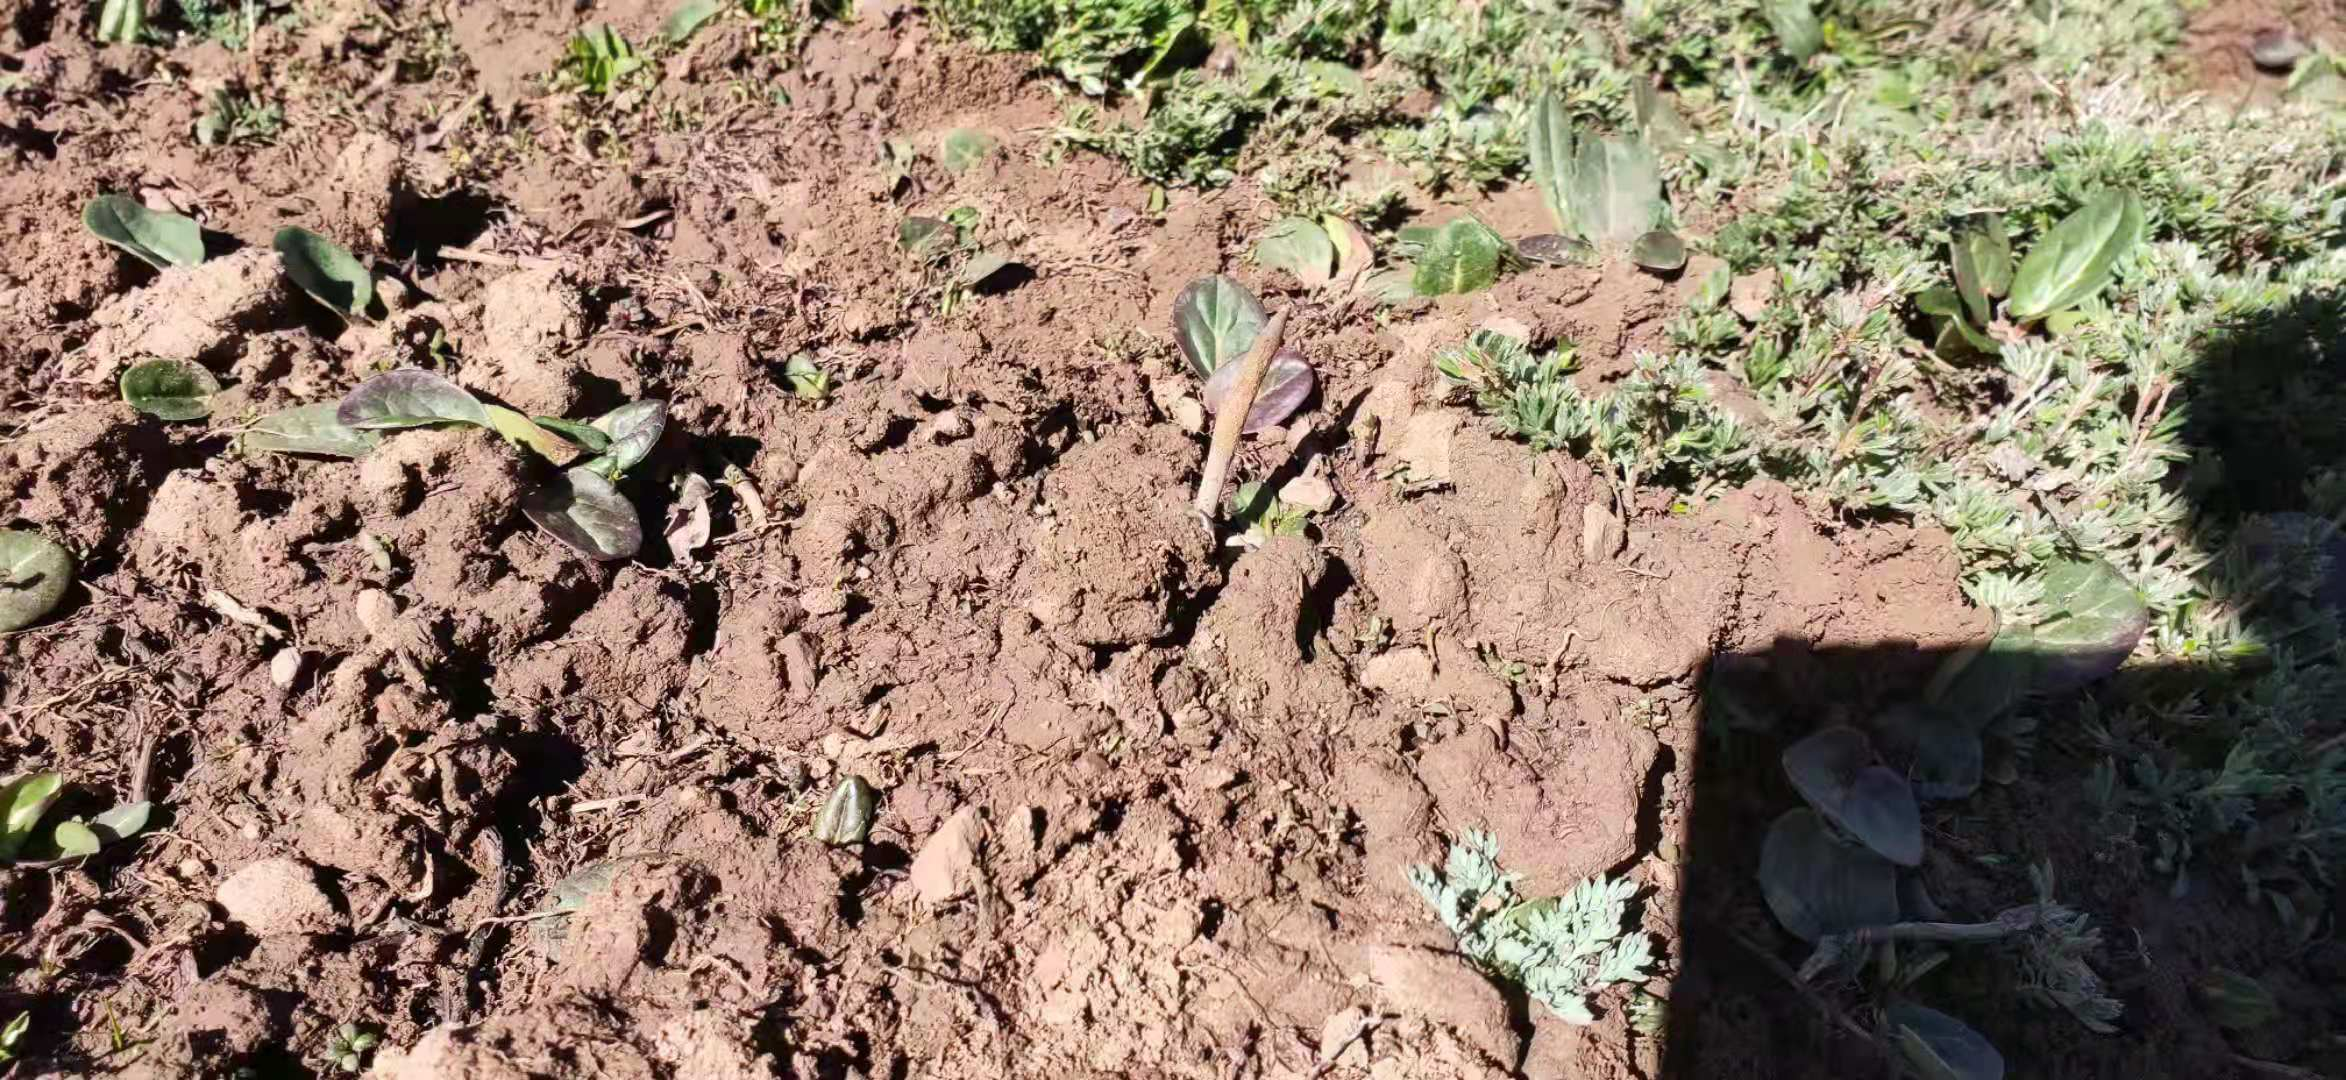Chongcao: (1192, 302, 1293, 515)
